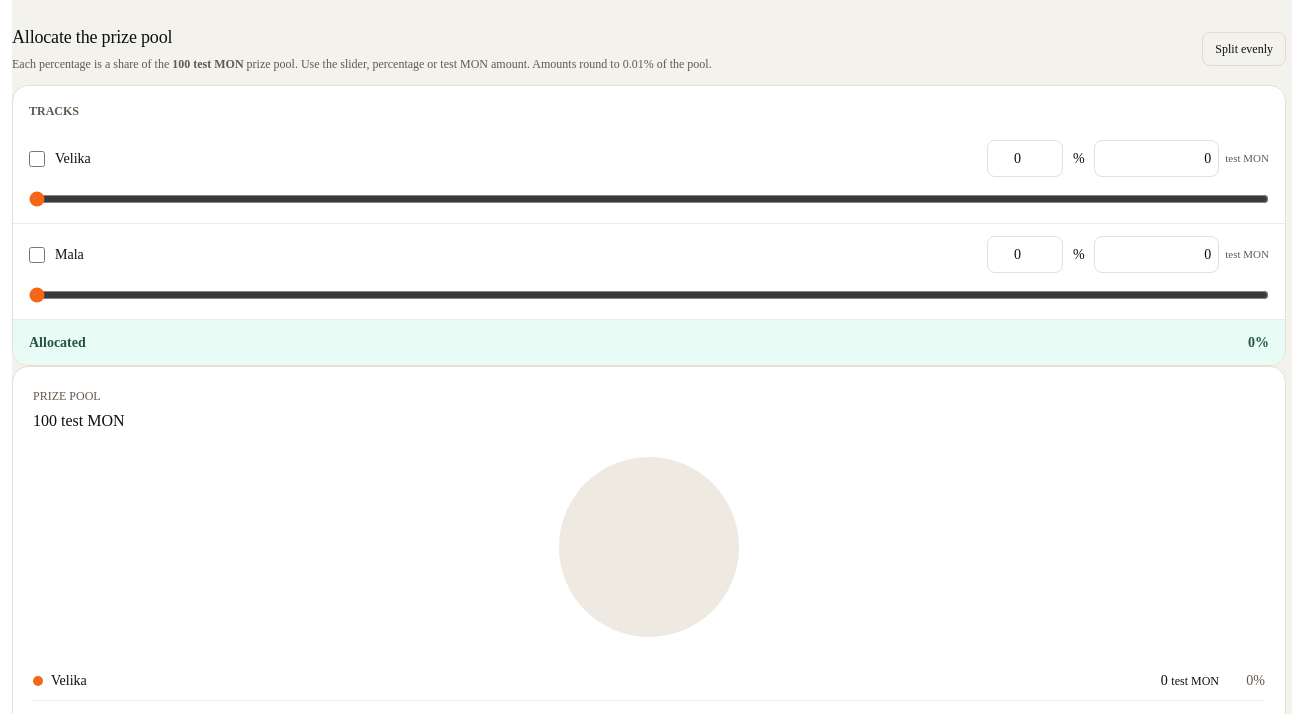
Test: selects one track without silently selecting the other
Click the checkbox labelled "Mala" at (37, 254), box [29,246,45,262]
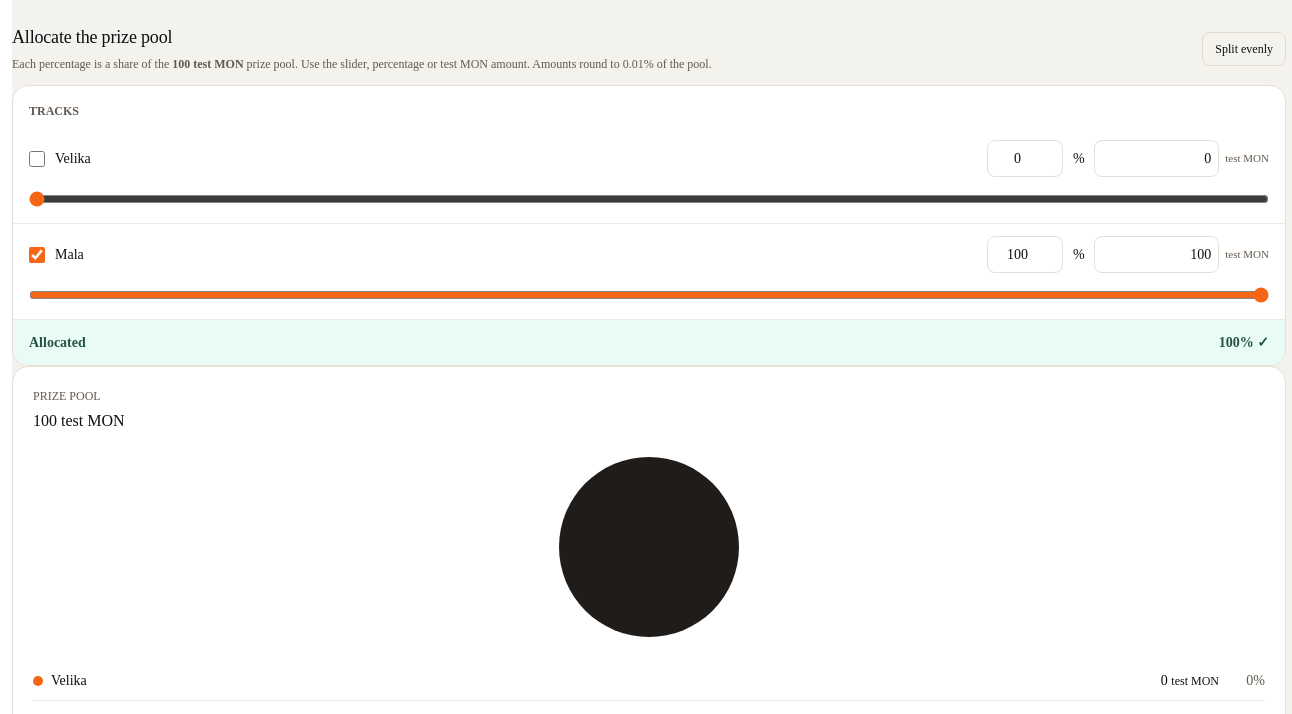
Now the number field named "Mala %" holds "100", box [987,236,1063,273]
Click the checkbox labelled "Velika" at (37, 158), box [29,150,45,166]
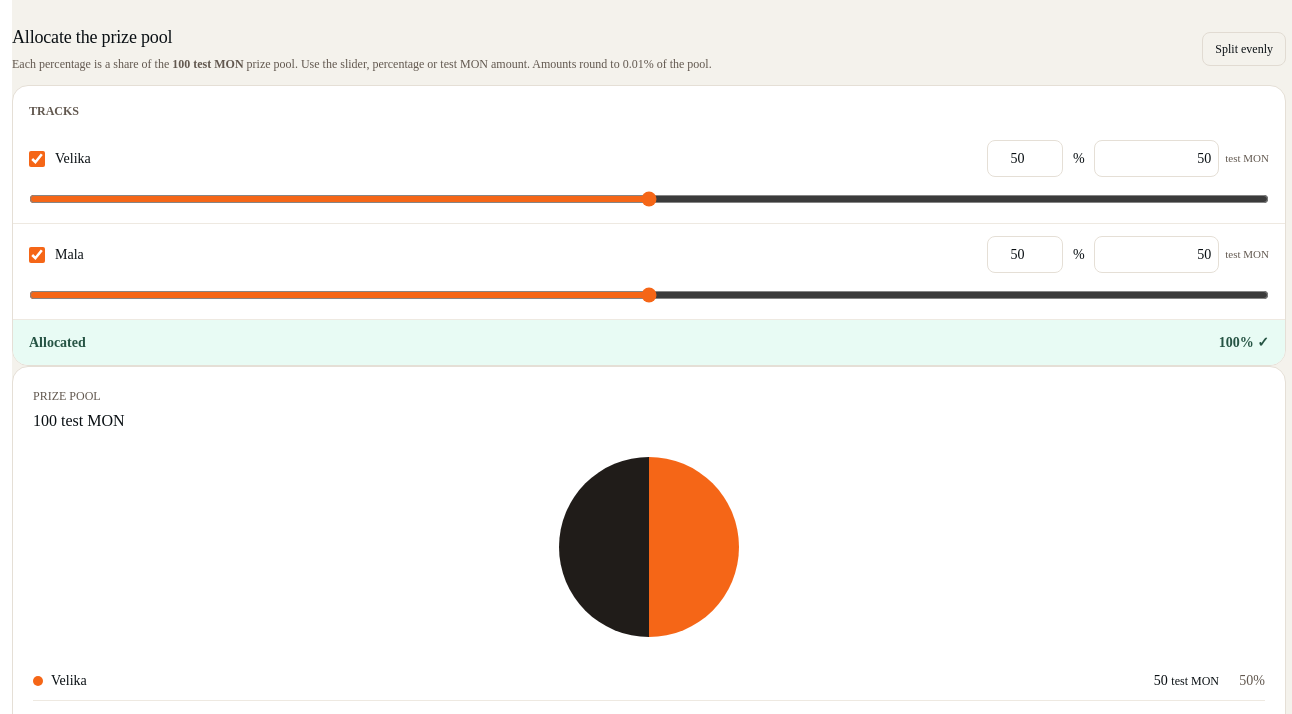
Now the number field named "Mala %" holds "50", box [987,236,1063,273]
Now the number field named "Velika %" holds "50", box [987,140,1063,177]
